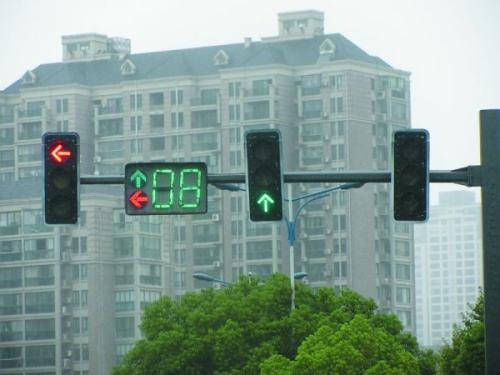green: (244, 128, 288, 226)
red: (39, 130, 82, 228)
